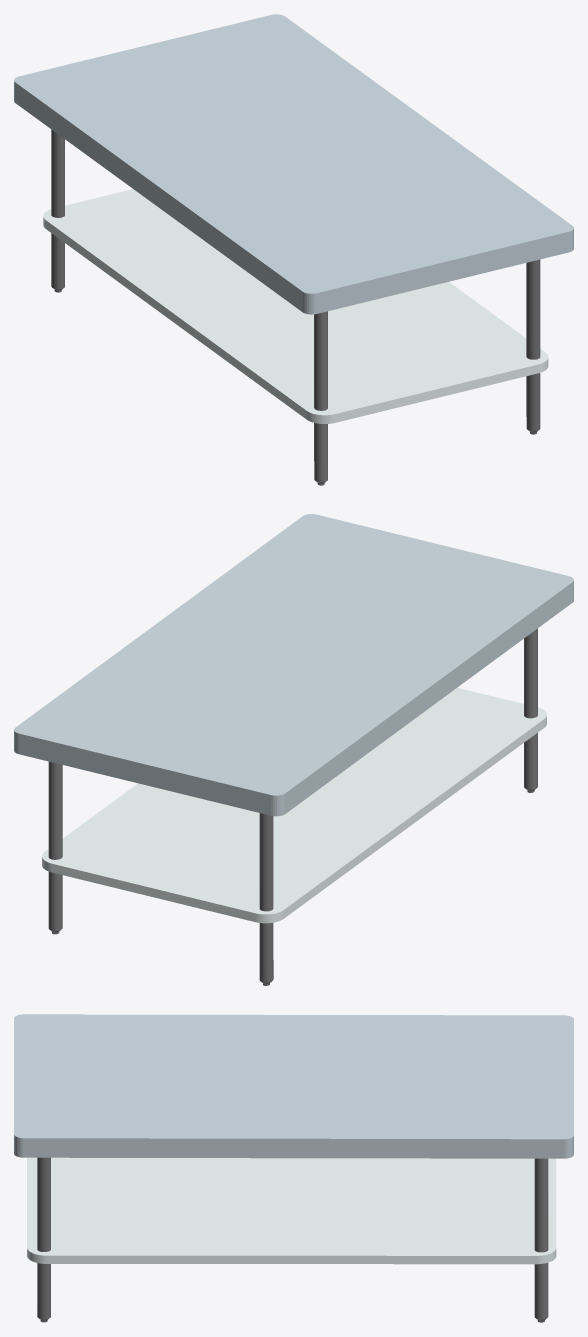
Rendered from table.dae.
3 renders of one model, top to bottom at view 1: azimuth 30°, elevation 25°; view 2: azimuth 150°, elevation 25°; view 3: azimuth 270°, elevation 25°, orthographic. The views are drawn at different scales.
Parts seen in each view (by area): view 1: Cube, Cube.001, Cylinder, Cylinder.003, Cylinder.002; view 2: Cube, Cube.001, Cylinder.002, Cylinder.001, Cylinder.003; view 3: Cube, Cube.001, Cylinder.001, Cylinder.
Part boxes in pixels (x1,y1,x2,y2): Cube: [14, 14, 573, 314]; Cube.001: [43, 189, 548, 423]; Cylinder: [526, 259, 540, 434]; Cylinder.003: [314, 311, 327, 485]; Cylinder.002: [51, 129, 64, 292]; Cube: [14, 514, 573, 816]; Cube.001: [42, 687, 546, 923]; Cylinder.002: [259, 813, 273, 985]; Cylinder.001: [48, 761, 62, 934]; Cylinder.003: [524, 628, 537, 792]; Cube: [14, 1014, 573, 1158]; Cube.001: [27, 1157, 556, 1264]; Cylinder.001: [534, 1158, 548, 1322]; Cylinder: [37, 1157, 50, 1322].
Size of the model in its own units: 5.2 by 9.94 by 3.84.
